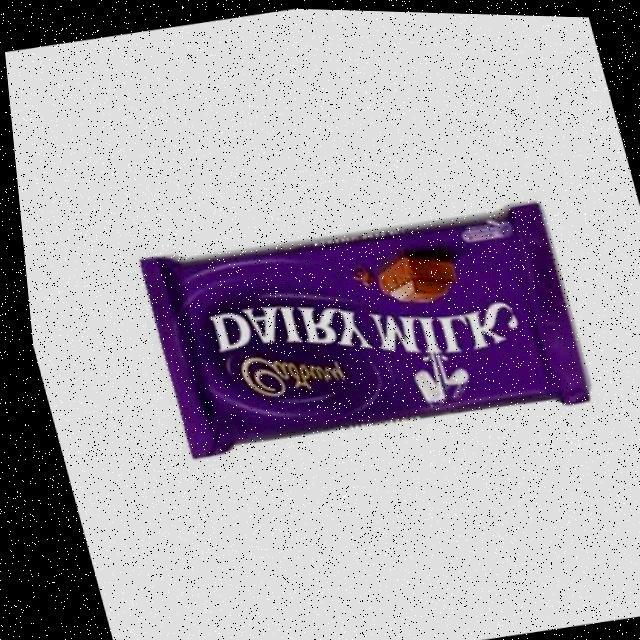cadbury_chocolate: (182, 205, 550, 453)
